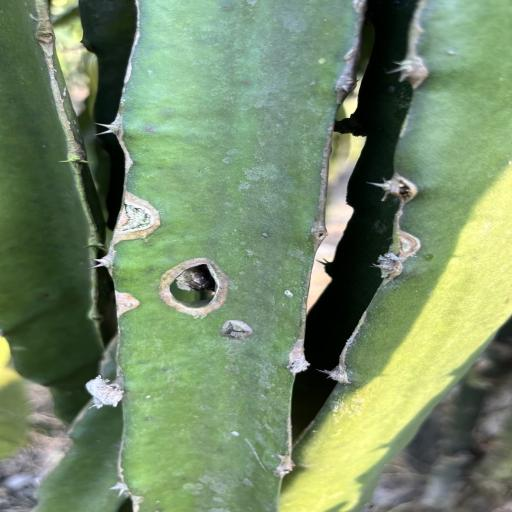stemcanker: (230, 430, 242, 438), (154, 498, 168, 504), (317, 58, 326, 65), (143, 393, 153, 399)
